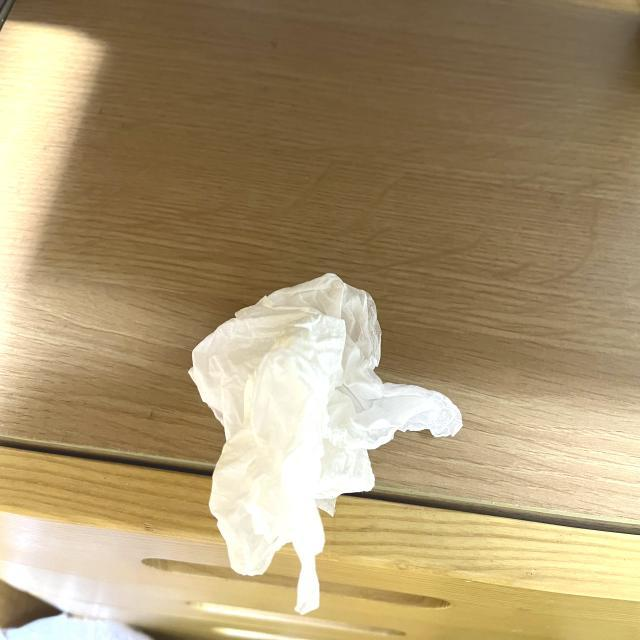Paper: (186, 270, 463, 588)
